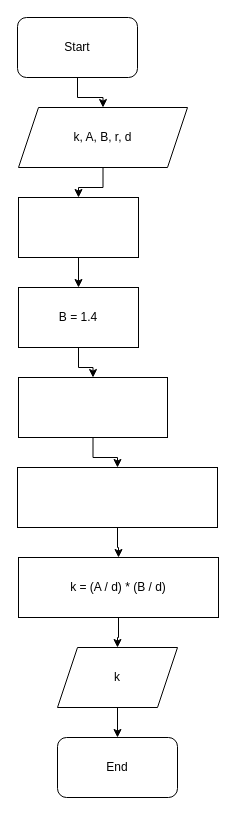
The diagram is 236 pixels wide and 815 high, and some of its shapes have lost their labels. The box of each missing label's shape, as (x1, y1, x2, y2) in pixels:
A = 12: (18, 196, 138, 258)
d = r * 2: (16, 466, 218, 528)
r = 15 / 100: (18, 376, 168, 438)
